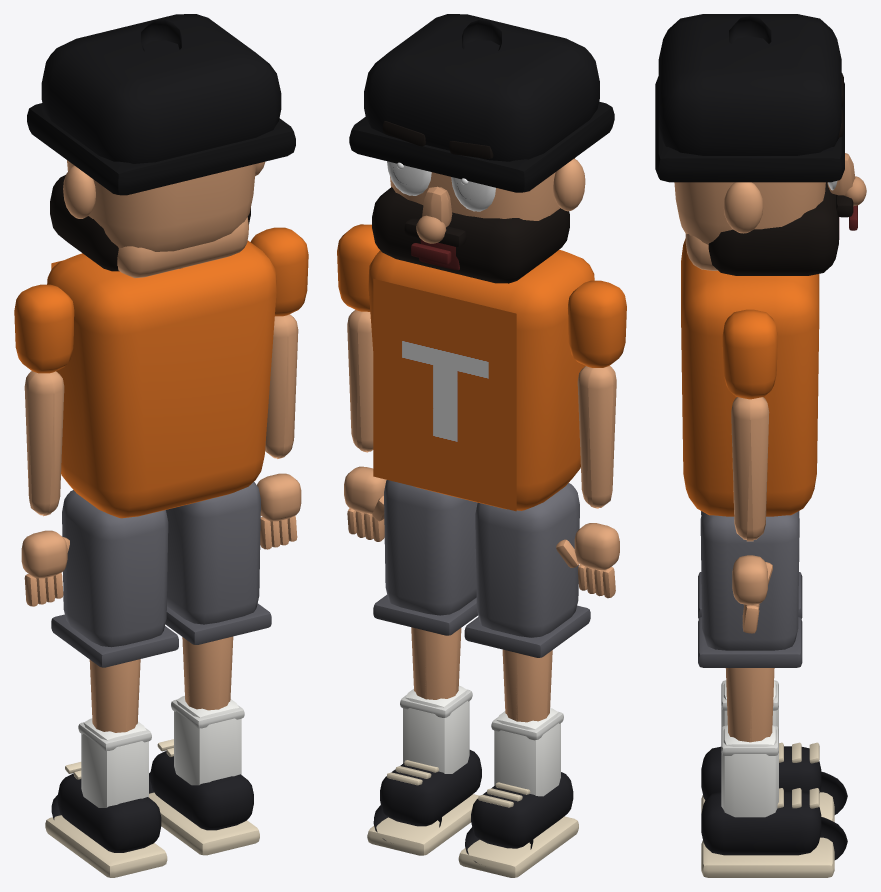
Rendered from dieHard.glb.
3 renders of one model, left to right at view 1: azimuth 30°, elevation 25°; view 2: azimuth 150°, elevation 25°; view 3: azimuth 270°, elevation 25°, orthographic.
Visible parts, largest first — view 1: torso, legL, legR, hat_head_hat_16, head, armL, armR, hat_head_hat2_17; view 2: torso, legL, legR, hat_head_hat_16, head, armL, armR, hat_head_hat2_17, stache_head_hair_15; view 3: legR, hat_head_hat_16, torso, head, armR, hat_head_hat2_17, legL.
Boxes of the visible parts, bbox=[...] form: torso: bbox=[47, 240, 276, 518]; legL: bbox=[45, 490, 178, 877]; legR: bbox=[149, 482, 271, 855]; hat_head_hat_16: bbox=[41, 14, 281, 163]; head: bbox=[50, 160, 265, 278]; armL: bbox=[14, 284, 74, 606]; armR: bbox=[250, 227, 308, 549]; hat_head_hat2_17: bbox=[27, 103, 295, 195]; torso: bbox=[368, 249, 594, 511]; legL: bbox=[458, 483, 590, 877]; legR: bbox=[367, 480, 481, 855]; hat_head_hat_16: bbox=[364, 14, 599, 161]; head: bbox=[372, 121, 585, 283]; armL: bbox=[556, 280, 626, 598]; armR: bbox=[337, 224, 386, 541]; hat_head_hat2_17: bbox=[349, 101, 614, 192]; stache_head_hair_15: bbox=[404, 218, 466, 246]; legR: bbox=[698, 511, 847, 877]; hat_head_hat_16: bbox=[658, 14, 841, 155]; torso: bbox=[681, 238, 819, 516]; head: bbox=[674, 73, 866, 275]; armR: bbox=[722, 309, 777, 633]; hat_head_hat2_17: bbox=[655, 76, 844, 182]; legL: bbox=[698, 511, 847, 821].
Size of the model in its own units: 0.7369 by 2.05 by 0.4763.
Materials: 18 (1 with a texture image).
